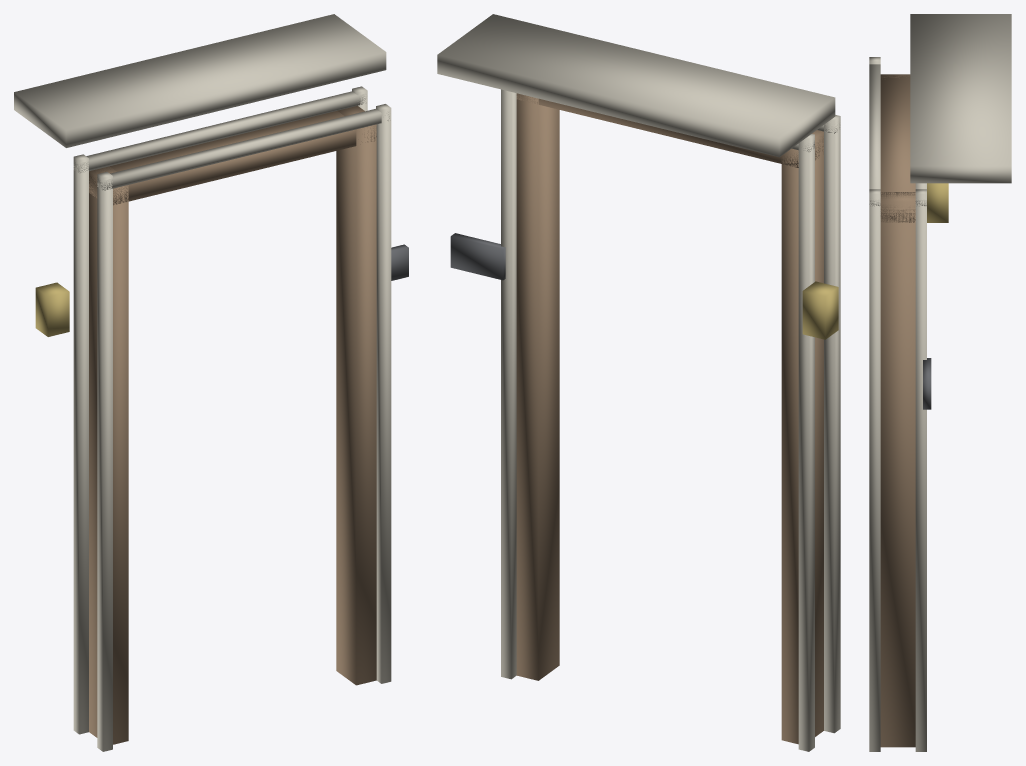
File: doorway_motel_w106_h240_d16.glb
3 views of the same model, side by side, from view 1: azimuth 30°, elevation 25°; view 2: azimuth 150°, elevation 25°; view 3: azimuth 270°, elevation 25° (orthographic). The views are drawn at different scales.
Parts seen in each view (by area): view 1: world; view 2: world; view 3: world.
Boxes of the visible parts, x1=… form: world: x1=14, y1=14, x2=408, y2=751; world: x1=437, y1=14, x2=840, y2=751; world: x1=869, y1=14, x2=1011, y2=751.
Size of the model in its own units: 1.68 by 2.72 by 0.5889.
